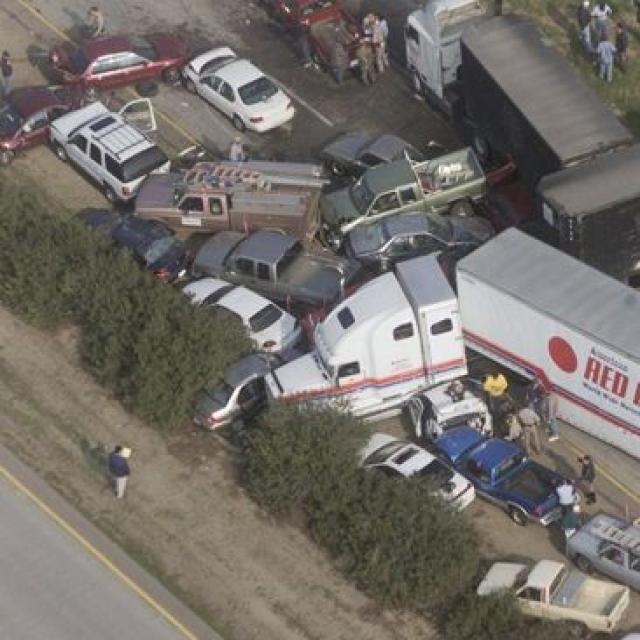traffic_incident: (159, 61, 593, 510)
